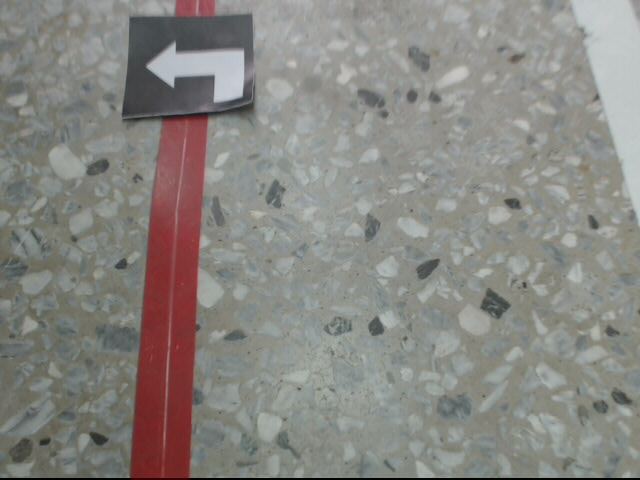left: (122, 14, 258, 121)
